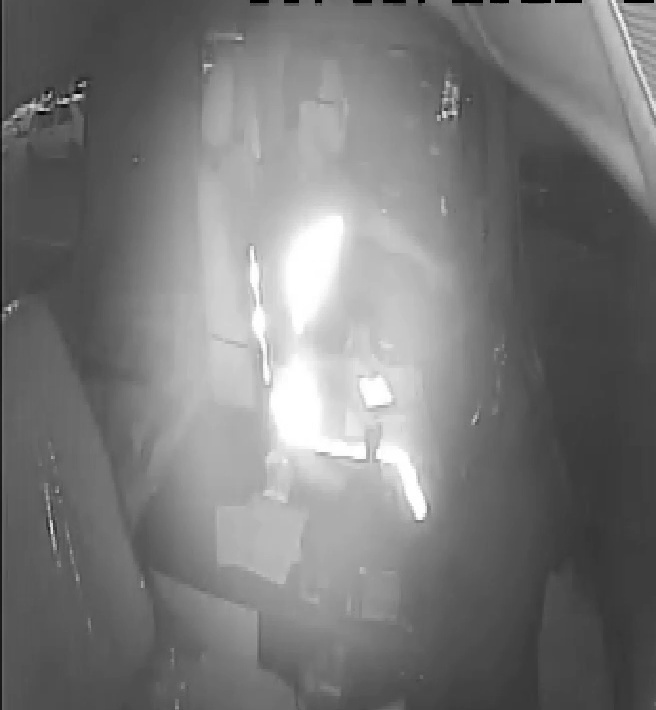cellphone: (352, 366, 397, 412)
